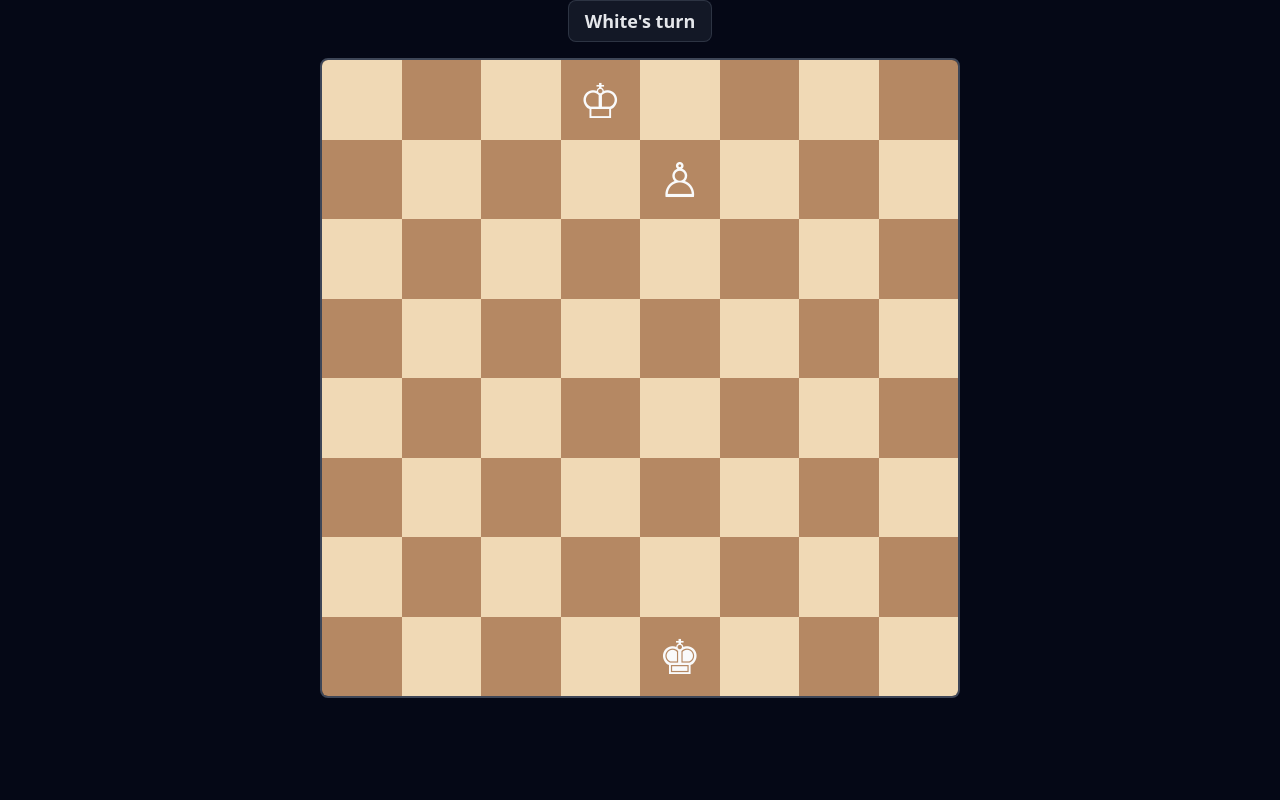
Test: App › Pawn promotion (Issue #34) › should cancel move when promotion dialog is cancelled
This screenshot has width=1280, height=800.
Expected: the cell named "square e7" reads "♙", [658, 146, 701, 211]
Click the cell named "square e7" at (680, 179), box [640, 140, 720, 219]
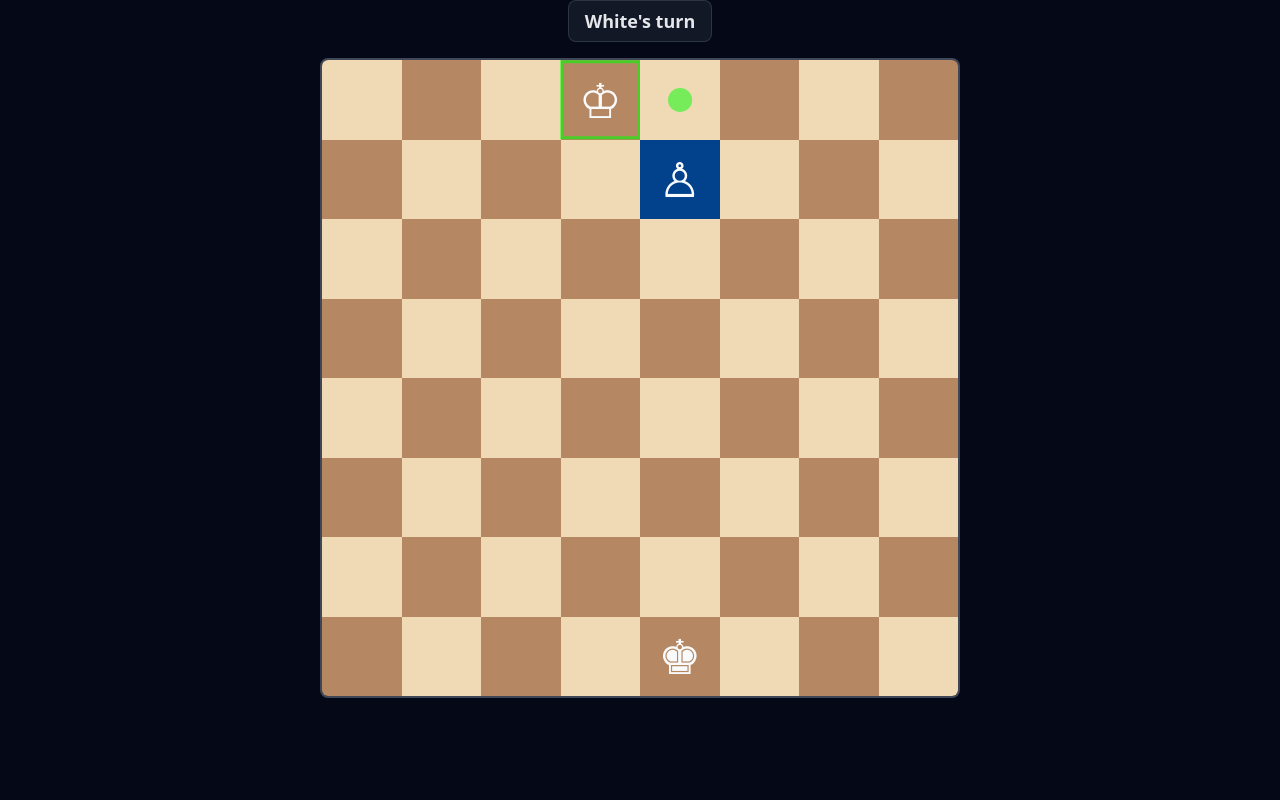
Note: Click on e8 to trigger promotion
Click the cell named "square e8" at (680, 100), box [640, 60, 720, 140]
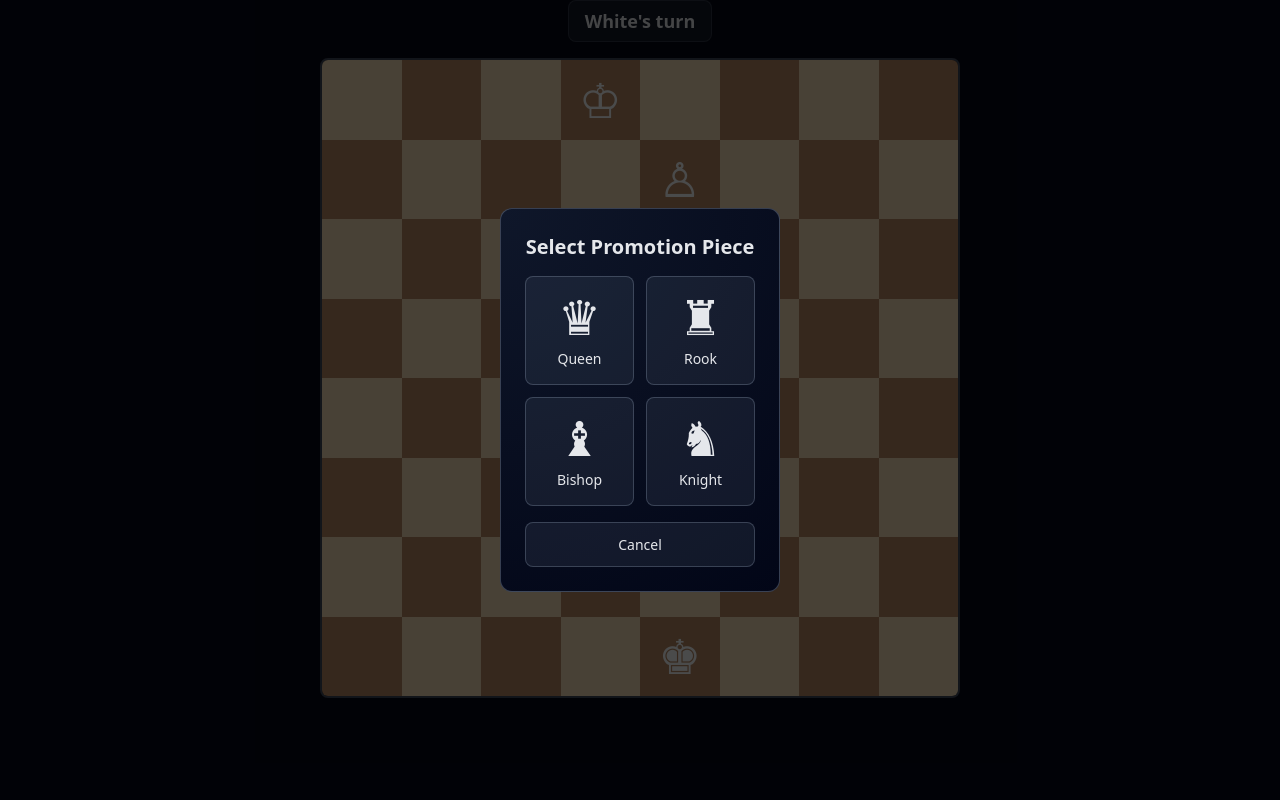
Expected: the dialog "Select Promotion Piece" is shown
Note: Cancel promotion
Click the button with aria-label "cancel promotion" at (640, 544), box [525, 522, 755, 567]
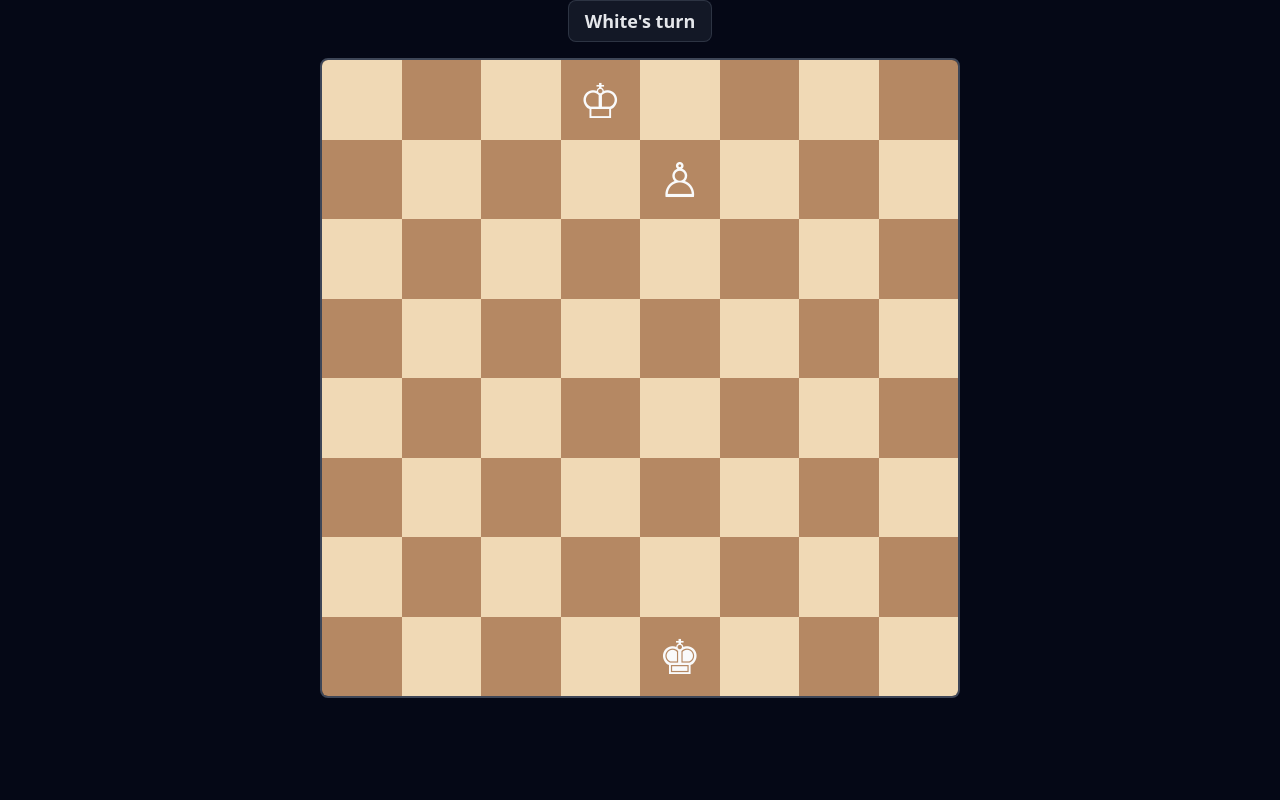
Expected: the cell named "square e7" reads "♙", [658, 146, 701, 211]
Expected: the heading "Select Promotion Piece" is gone
